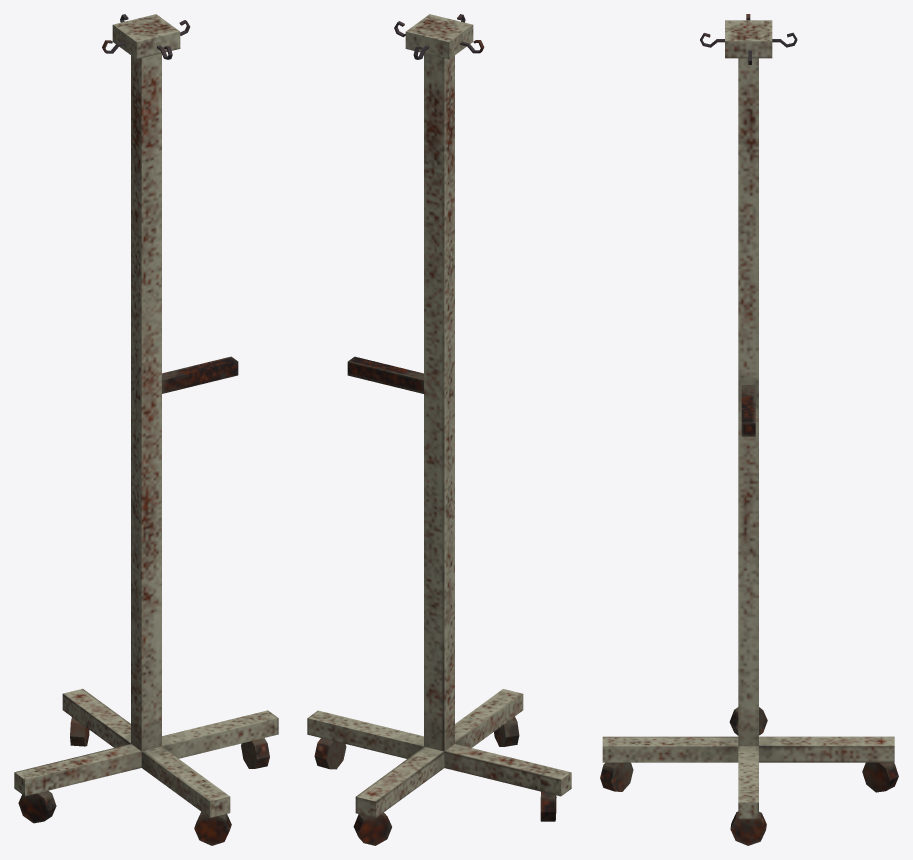
The model's file is iv_pole.fbx.
3 views of the same model, side by side, from view 1: azimuth 30°, elevation 25°; view 2: azimuth 150°, elevation 25°; view 3: azimuth 270°, elevation 25° (orthographic).
Visible parts, largest first — view 1: iv_pole; view 2: iv_pole; view 3: iv_pole.
Boxes of the visible parts, box(x1,y1,x2,y2) form: iv_pole: box(14, 14, 278, 845); iv_pole: box(307, 14, 571, 845); iv_pole: box(600, 14, 898, 845).
Bounding box in the file's own units: 64.54 × 186 × 66.46.
